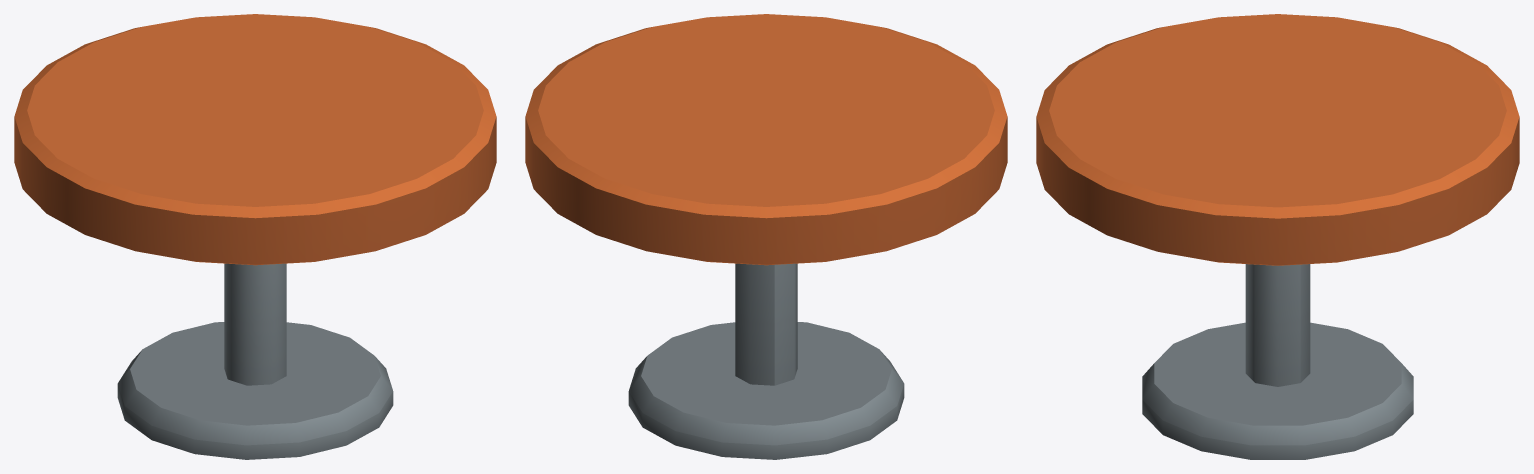
The model's file is kay-table_round_a_small.glb.
The picture shows the model from 3 angles, left to right: view 1: azimuth 30°, elevation 25°; view 2: azimuth 150°, elevation 25°; view 3: azimuth 270°, elevation 25°; orthographic projection.
Visible parts, largest first — view 1: table_round_A_small; view 2: table_round_A_small; view 3: table_round_A_small.
Boxes of the visible parts, bbox=[...] form: table_round_A_small: bbox=[14, 14, 496, 459]; table_round_A_small: bbox=[525, 14, 1007, 459]; table_round_A_small: bbox=[1036, 14, 1519, 459].
Bounding box in the file's own units: 1 × 0.6667 × 1.
Materials: 1 (1 with a texture image).
